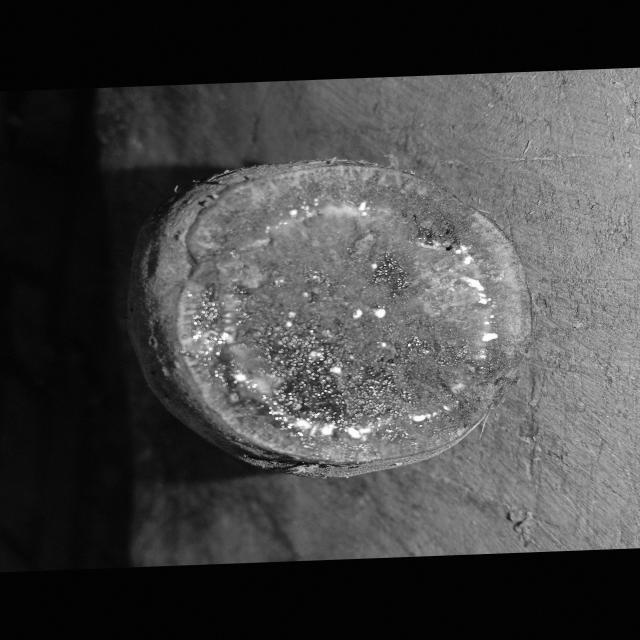Sick Sweet Potato_Tuber Rot: (177, 162, 532, 464)
